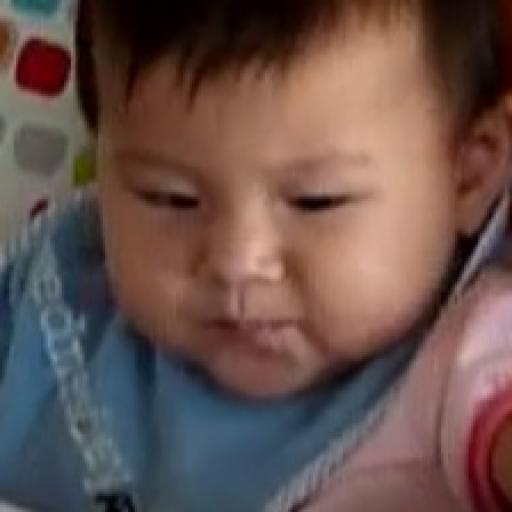Autism: (70, 13, 512, 406)
